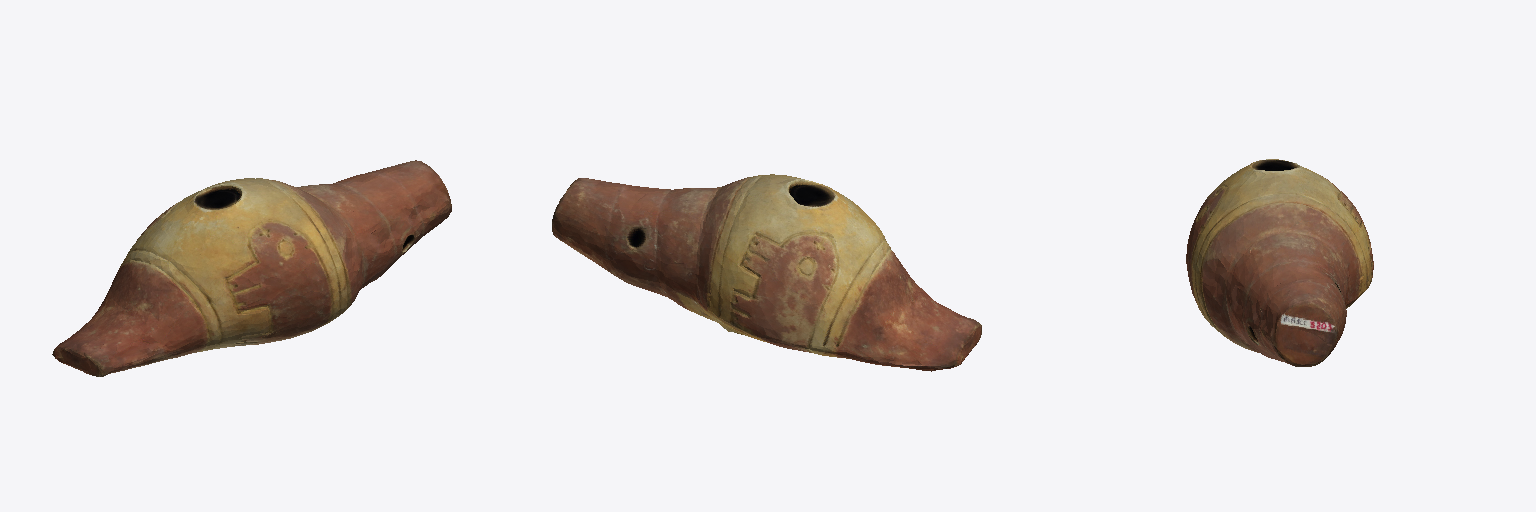
The picture shows the model from 3 angles: view 1: azimuth 30°, elevation 25°; view 2: azimuth 150°, elevation 25°; view 3: azimuth 270°, elevation 25°; orthographic projection.
Parts seen in each view (by area): view 1: piece3203; view 2: piece3203; view 3: piece3203.
Boxes of the visible parts, box(x1,y1,x2,y2) form: piece3203: box(52, 160, 451, 376); piece3203: box(552, 174, 981, 371); piece3203: box(1186, 159, 1373, 366).
Size of the model in its own units: 0.3735 by 0.1372 by 0.1544.
1 materials, 1 textured.